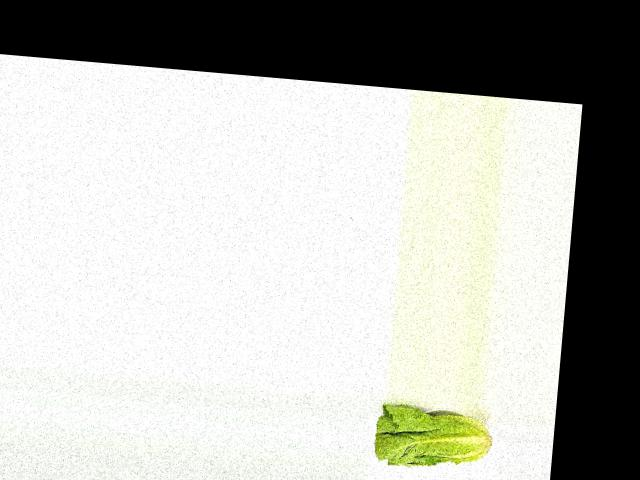lettuce: (372, 401, 495, 476)
